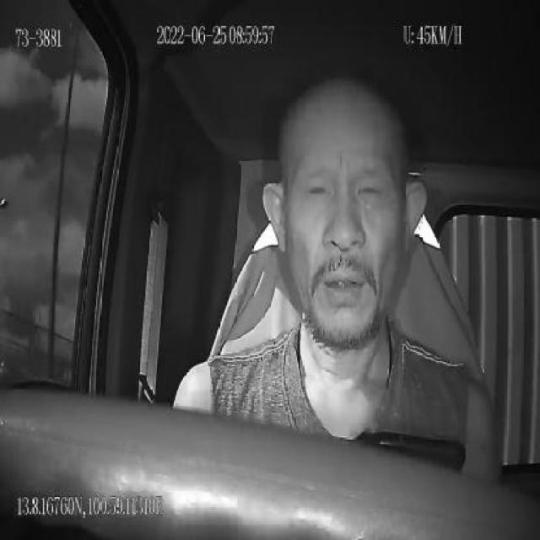phone: (352, 422, 468, 472)
